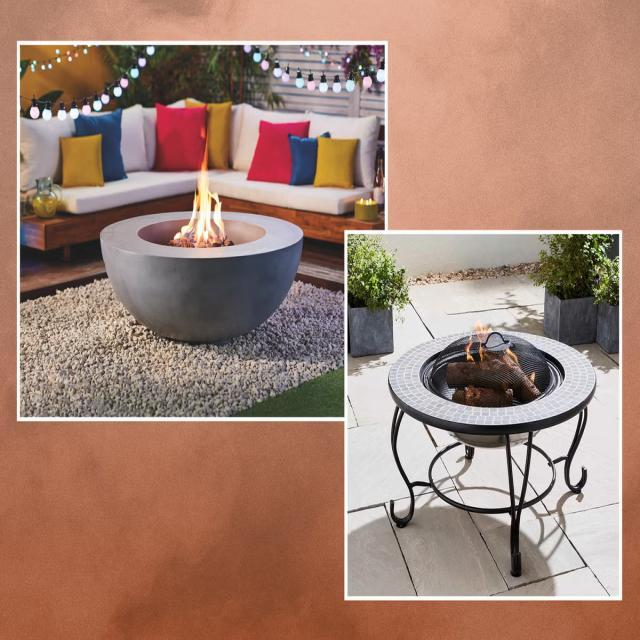Fire: (174, 152, 230, 248)
